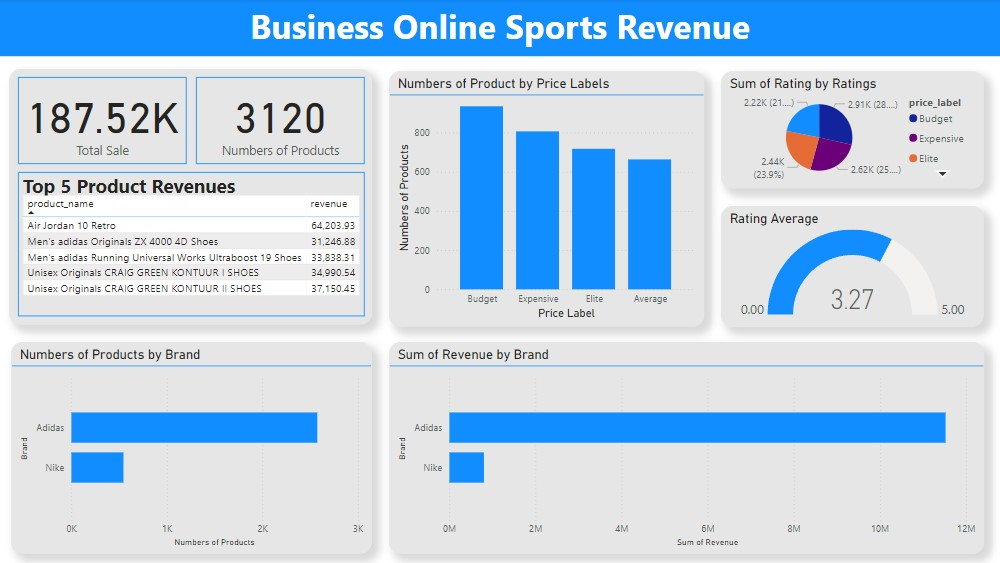

The dashboard page shown, as its layout file describes it:
{"tool":"powerbi","page":{"name":"Page 1","canvas":[1280,720],"ordinal":0},"visuals":[{"type":"textbox","box":[0,0,1280,72.7],"z":0},{"type":"barChart","fields":{"Category":["public brands.brand"],"Y":["Sum(finance.revenue)"]},"box":[498.5,437.3,758.6,270.3],"z":1000},{"type":"barChart","fields":{"Category":["public brands.brand"],"Y":["CountNonNull(public brands.product_id)"]},"box":[16.6,437.3,460.2,270.3],"z":2000},{"type":"columnChart","title":"Numbers of Product by Price Labels","fields":{"Category":["finance.price_label"],"Y":["CountNonNull(public reviews.product_id)"]},"box":[498.5,91.8,401.6,326.4],"z":3000},{"type":"shape","box":[14,89.2,462.8,326.4],"z":4000},{"type":"gauge","title":"Rating Average","fields":{"Y":["Avg(public reviews.rating)"],"MaxValue":["Max(public reviews.rating)1"],"MinValue":["Min(public reviews.rating)2"]},"box":[921.8,263.9,335.3,154.3],"z":5000},{"type":"tableEx","title":"Top 5 Product Revenues","fields":{"Values":["public info.product_name","finance.revenue"]},"box":[25.5,220.6,442.4,183.6],"z":6000},{"type":"card","fields":{"Values":["Sum(finance.sale_price)"]},"box":[25.5,99.4,215.5,110.9],"z":7000},{"type":"card","fields":{"Values":["CountNonNull(public brands.product_id)"]},"box":[252.4,99.4,215.5,110.9],"z":8000},{"type":"pieChart","title":"Sum of Rating by Ratings","fields":{"Category":["finance.price_label"],"Y":["Sum(public reviews.rating)"]},"box":[921.8,91.8,335.3,150.4],"z":9000}]}

Visuals, with their boxes in screenshot pixels (x1, y1, x2, y2), scaled from the page's 1280x720 canvas onto the 1000x563 screenshot:
textbox: select_region(0, 0, 999, 57)
barChart - public brands.brand x Sum(finance.revenue): select_region(389, 342, 982, 553)
barChart - public brands.brand x CountNonNull(public brands.product_id): select_region(13, 342, 372, 553)
"Numbers of Product by Price Labels" columnChart: select_region(389, 72, 703, 327)
shape: select_region(11, 70, 372, 325)
"Rating Average" gauge: select_region(720, 206, 982, 327)
"Top 5 Product Revenues" tableEx: select_region(20, 172, 366, 316)
card - Sum(finance.sale_price): select_region(20, 78, 188, 164)
card - CountNonNull(public brands.product_id): select_region(197, 78, 366, 164)
"Sum of Rating by Ratings" pieChart: select_region(720, 72, 982, 189)
